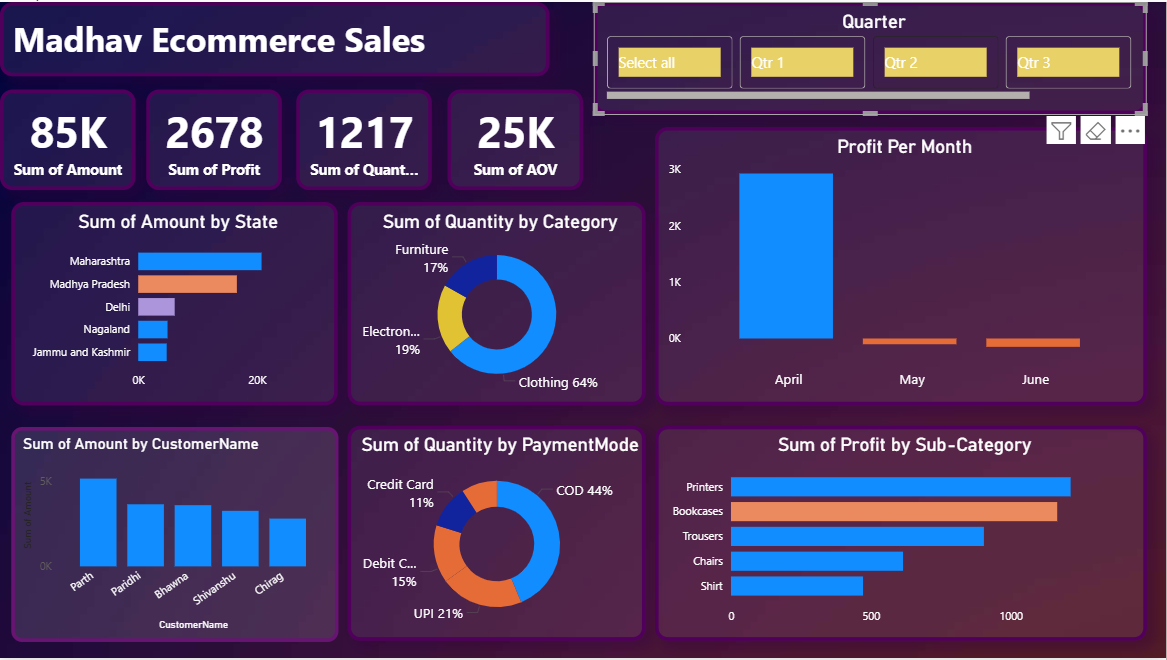

The dashboard page shown, as its layout file describes it:
{"tool":"powerbi","page":{"name":"Page 1","canvas":[1280,720],"ordinal":0},"visuals":[{"type":"textbox","box":[0,0,602.9,81.4],"z":0},{"type":"clusteredColumnChart","title":"Profit Per Month","fields":{"Category":["Orders.Order Date.Variation.Date Hierarchy.Month"],"Y":["Sum(Details.Profit)"]},"box":[718.6,137.1,540,305.7],"z":1000},{"type":"barChart","fields":{"Category":["Details.Sub-Category"],"Y":["Sum(Details.Profit)"]},"box":[718.6,465.7,540,235.7],"z":2000},{"type":"donutChart","fields":{"Category":["Details.Category"],"Y":["Sum(Details.Quantity)"]},"box":[381.4,220,327.1,222.9],"z":3000},{"type":"donutChart","fields":{"Y":["Sum(Details.Quantity)"],"Category":["Details.PaymentMode"]},"box":[381.4,465.7,327.1,235.7],"z":4000},{"type":"card","fields":{"Values":["Sum(Details.Amount)"]},"box":[0,95.7,148.6,110],"z":5000},{"type":"card","fields":{"Values":["Sum(Details.Profit)"]},"box":[160,95.7,148.6,110],"z":6000},{"type":"card","fields":{"Values":["Sum(Details.Quantity)"]},"box":[325.7,95.7,148.6,110],"z":7000},{"type":"card","fields":{"Values":["Sum(Details.AOV)"]},"box":[491.4,95.7,148.6,110],"z":8000},{"type":"barChart","fields":{"Category":["Orders.State"],"Y":["Sum(Details.Amount)"]},"box":[12.9,220,358.6,222.9],"z":9000},{"type":"clusteredColumnChart","fields":{"Category":["Orders.CustomerName"],"Y":["Sum(Details.Amount)"]},"box":[13,466,359,236],"z":10000},{"type":"advancedSlicerVisual","fields":{"Values":["Orders.Order Date.Variation.Date Hierarchy.Quarter"]},"box":[651.4,0,607.1,122.9],"z":11000}]}

Visuals, with their boxes in screenshot pixels (x1, y1, x2, y2), scaled from the page's 1280x720 canvas onto the 1167x660 screenshot:
textbox: (left=0, top=0, right=550, bottom=75)
"Profit Per Month" clusteredColumnChart: (left=655, top=126, right=1147, bottom=406)
barChart - Details.Sub-Category x Sum(Details.Profit): (left=655, top=427, right=1147, bottom=643)
donutChart - Details.Category x Sum(Details.Quantity): (left=348, top=202, right=646, bottom=406)
donutChart - Sum(Details.Quantity) x Details.PaymentMode: (left=348, top=427, right=646, bottom=643)
card - Sum(Details.Amount): (left=0, top=88, right=135, bottom=189)
card - Sum(Details.Profit): (left=146, top=88, right=281, bottom=189)
card - Sum(Details.Quantity): (left=297, top=88, right=432, bottom=189)
card - Sum(Details.AOV): (left=448, top=88, right=584, bottom=189)
barChart - Orders.State x Sum(Details.Amount): (left=12, top=202, right=339, bottom=406)
clusteredColumnChart - Orders.CustomerName x Sum(Details.Amount): (left=12, top=427, right=339, bottom=644)
advancedSlicerVisual - Orders.Order Date.Variation.Date Hierarchy.Quarter: (left=594, top=0, right=1147, bottom=113)
